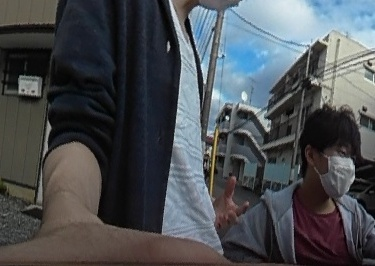person: (222, 105, 375, 266)
